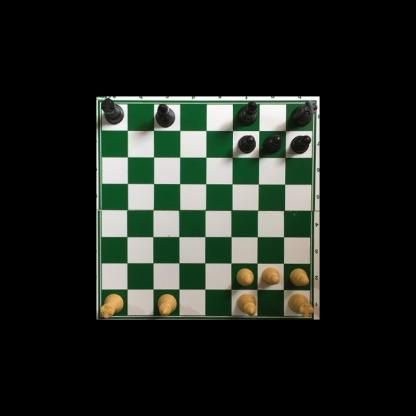black-bishop: (236, 101, 258, 128), (155, 105, 176, 128)
black-pawn: (262, 133, 283, 155), (289, 133, 311, 153), (237, 133, 257, 154)
black-rook: (290, 99, 317, 127), (99, 98, 124, 124)
white-bishop: (158, 292, 178, 320), (236, 293, 258, 317)
white-pawn: (289, 268, 309, 286), (261, 267, 280, 285), (236, 268, 254, 286)
white-rook: (98, 293, 125, 320), (287, 292, 314, 318)
